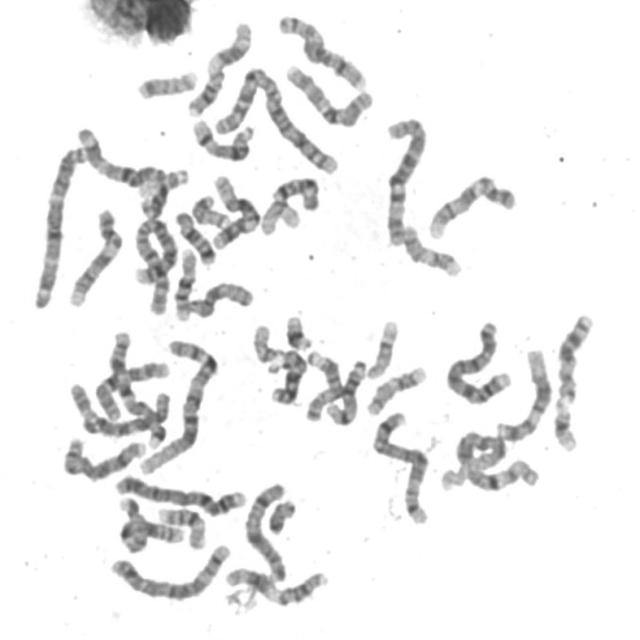A1: (138, 334, 222, 477), (451, 424, 543, 494)
A2: (213, 60, 342, 176), (129, 214, 180, 316)
A3: (28, 142, 92, 311), (75, 128, 167, 220)
B4: (111, 470, 248, 520), (442, 316, 516, 406)
B5: (106, 539, 234, 603), (368, 406, 434, 526)
C10: (280, 58, 376, 130), (92, 356, 172, 422)
C11: (182, 15, 256, 120), (220, 562, 332, 609)
C12: (492, 343, 555, 442), (206, 169, 262, 251)
C6: (382, 112, 431, 248), (66, 381, 172, 439)
C7: (105, 327, 170, 448), (101, 330, 169, 442)
C8: (274, 9, 369, 92), (59, 431, 150, 483)
C9: (424, 170, 520, 241), (64, 204, 124, 310)
D13: (553, 308, 597, 406), (264, 344, 309, 407)
D14: (322, 355, 368, 427), (188, 114, 256, 162)
D15: (304, 347, 348, 424), (183, 276, 256, 321)
E16: (155, 502, 208, 552), (169, 242, 199, 323)
E17: (398, 219, 464, 279), (363, 361, 430, 417)
E18: (172, 206, 218, 266), (268, 172, 322, 212)
F19: (362, 314, 402, 382), (257, 196, 302, 237)
F20: (133, 66, 200, 102), (188, 191, 234, 229)
G21: (550, 397, 580, 454), (282, 310, 316, 352)
G22: (134, 169, 192, 196), (250, 320, 281, 364)
X: (241, 478, 291, 585)
Y: (264, 495, 298, 537)
